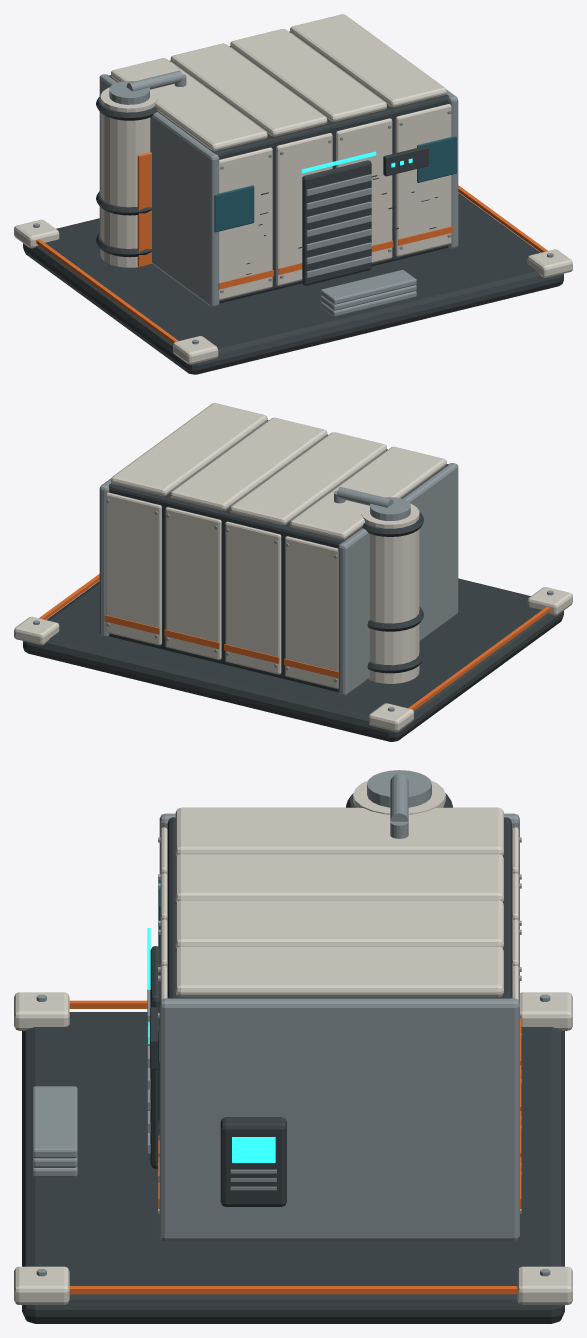
The model's file is SM_ControlSystemsAssembly_Body.fbx.
3 renders of one model, top to bottom at view 1: azimuth 30°, elevation 25°; view 2: azimuth 150°, elevation 25°; view 3: azimuth 270°, elevation 25°, orthographic. The views are drawn at different scales.
Visible parts, largest first — view 1: SM_ControlSystemsAssembly_Body; view 2: SM_ControlSystemsAssembly_Body; view 3: SM_ControlSystemsAssembly_Body.
Part boxes in pixels (x1,y1,x2,y2): SM_ControlSystemsAssembly_Body: (14, 14, 572, 374); SM_ControlSystemsAssembly_Body: (14, 403, 572, 741); SM_ControlSystemsAssembly_Body: (14, 770, 572, 1323).
Size of the model in its own units: 532 by 422 by 257.
